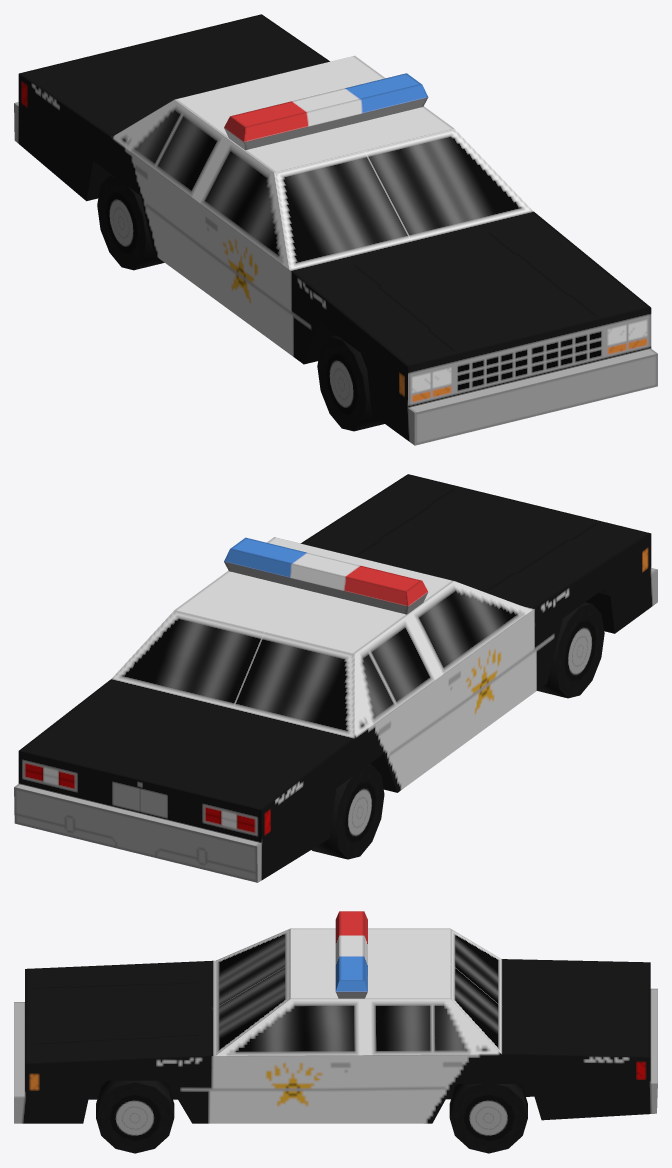
File: ImpalaPD.fbx
3 renders of one model, top to bottom at view 1: azimuth 30°, elevation 25°; view 2: azimuth 150°, elevation 25°; view 3: azimuth 270°, elevation 25°, orthographic. The views are drawn at different scales.
Parts seen in each view (by area): view 1: Base, Lightbar, WheelFR, WheelRR; view 2: Base, Lightbar, WheelRR, WheelFR; view 3: Base, WheelFL, WheelRL, Lightbar.
Part boxes in pixels (box(x1,y1,x2,y2)): Base: box(14, 14, 657, 445); Lightbar: box(224, 73, 428, 150); WheelFR: box(317, 335, 384, 431); WheelRR: box(97, 175, 164, 270); Base: box(14, 474, 657, 882); Lightbar: box(224, 537, 428, 614); WheelRR: box(311, 764, 384, 859); WheelFR: box(537, 602, 604, 698); Base: box(14, 928, 657, 1123); WheelFL: box(96, 1080, 174, 1153); WheelRL: box(449, 1084, 527, 1153); Lightbar: box(335, 911, 367, 998).
Bounding box in the file's own units: 620 × 488 × 1770.
2 materials, 2 textured.
